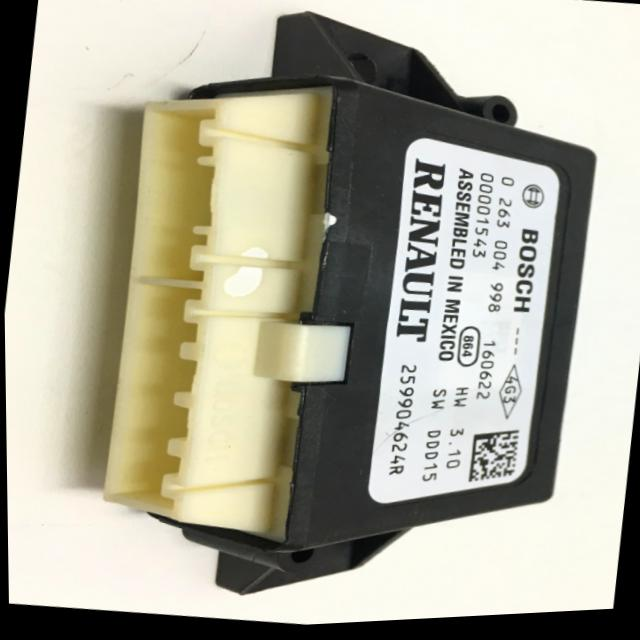datamatrix: (466, 431, 518, 493)
